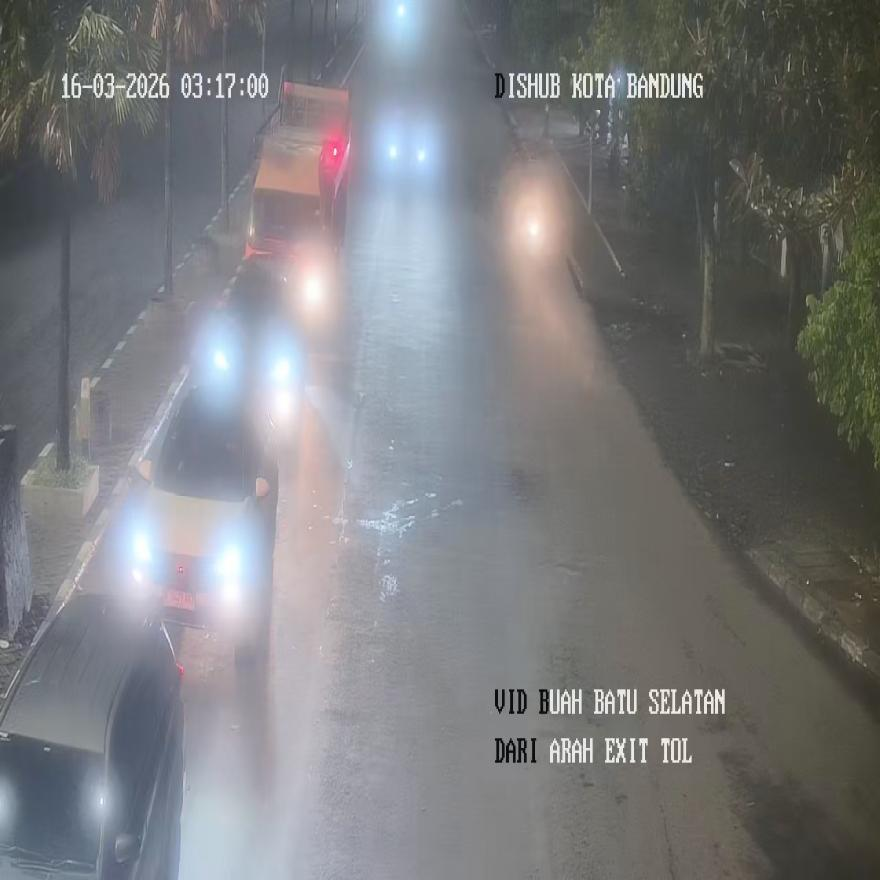Mobil: (0, 592, 186, 878), (125, 332, 279, 664)
Truk ringan: (243, 80, 351, 338)
